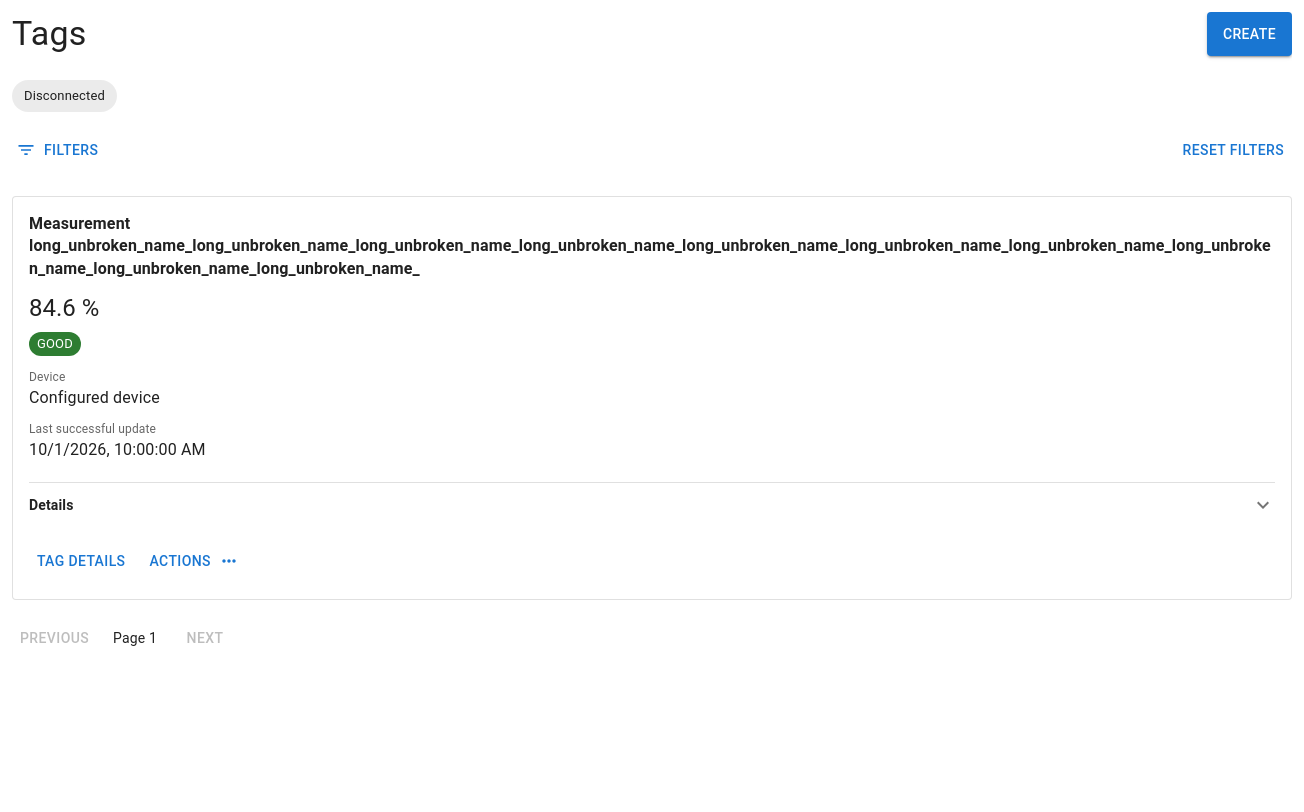
Scenario: responsive data views › collapses mobile tag filters, displays applied values and resets the existing query
Expected: the field labelled "Search name or key" is not shown
Step 1. Click the button "Filters" → coordinates (59, 150), box [12,128,106,172]
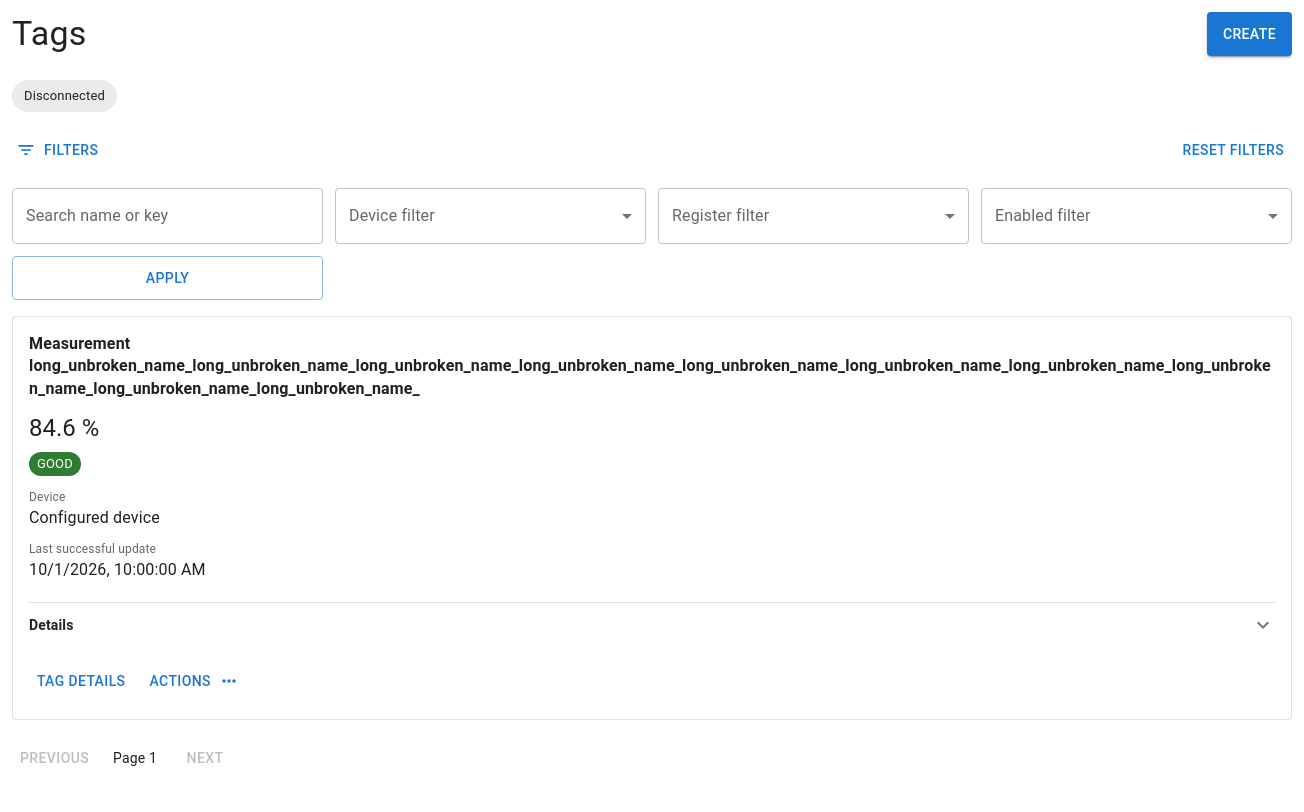
Step 2. Type "humidity" into the field labelled "Search name or key" → coordinates (168, 216), box [12,188,323,244]
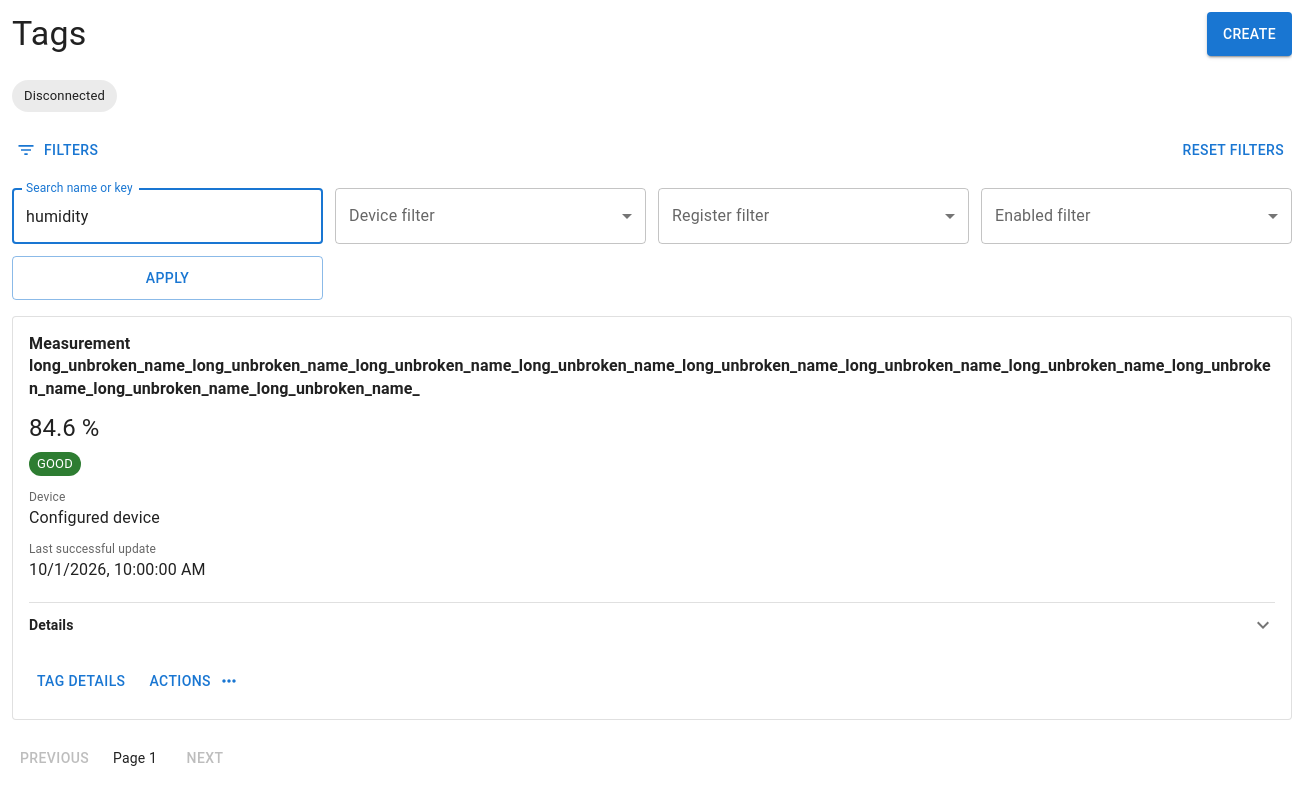
Step 3. Click the button "Apply" → coordinates (168, 278), box [12,256,323,300]
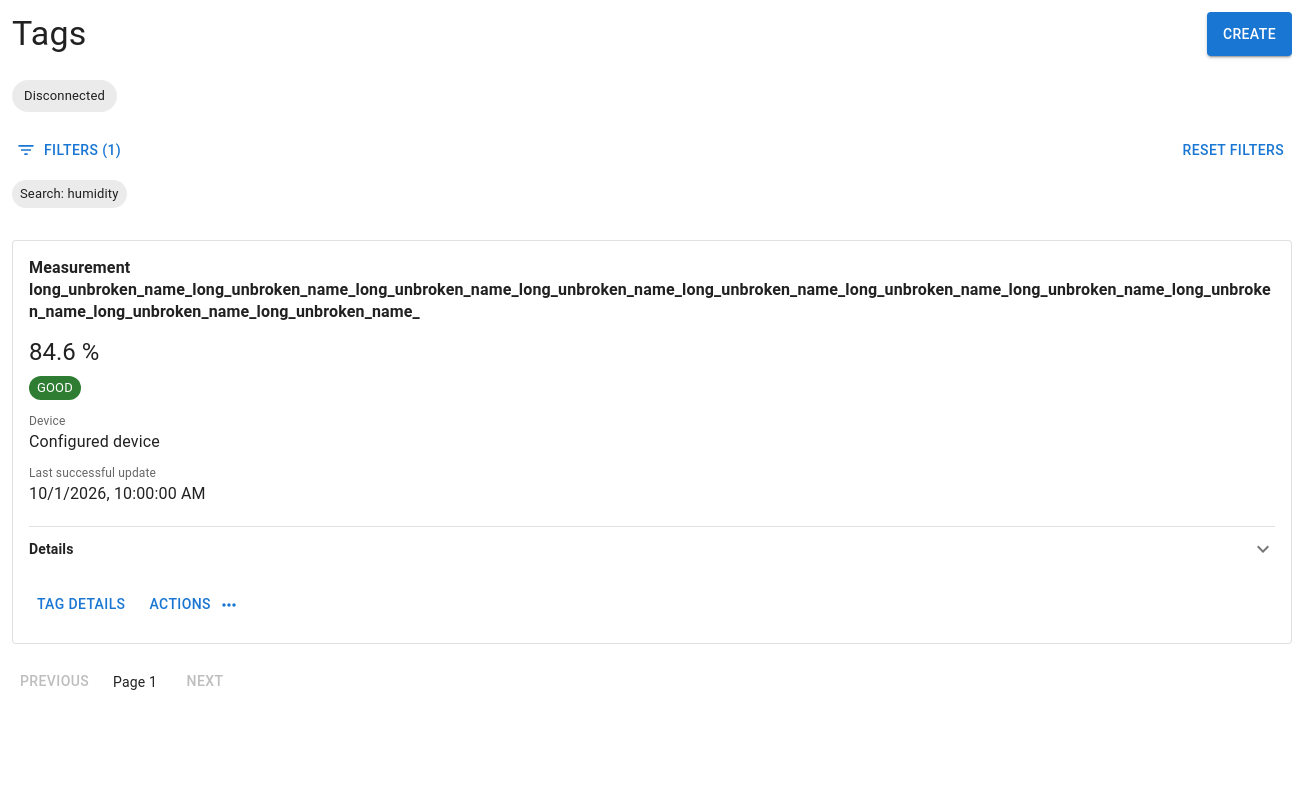
Result: the text "Search: humidity" is shown at [20,186,118,201]
Step 4. Click the button "Reset filters" → coordinates (1233, 150), box [1175,128,1292,172]
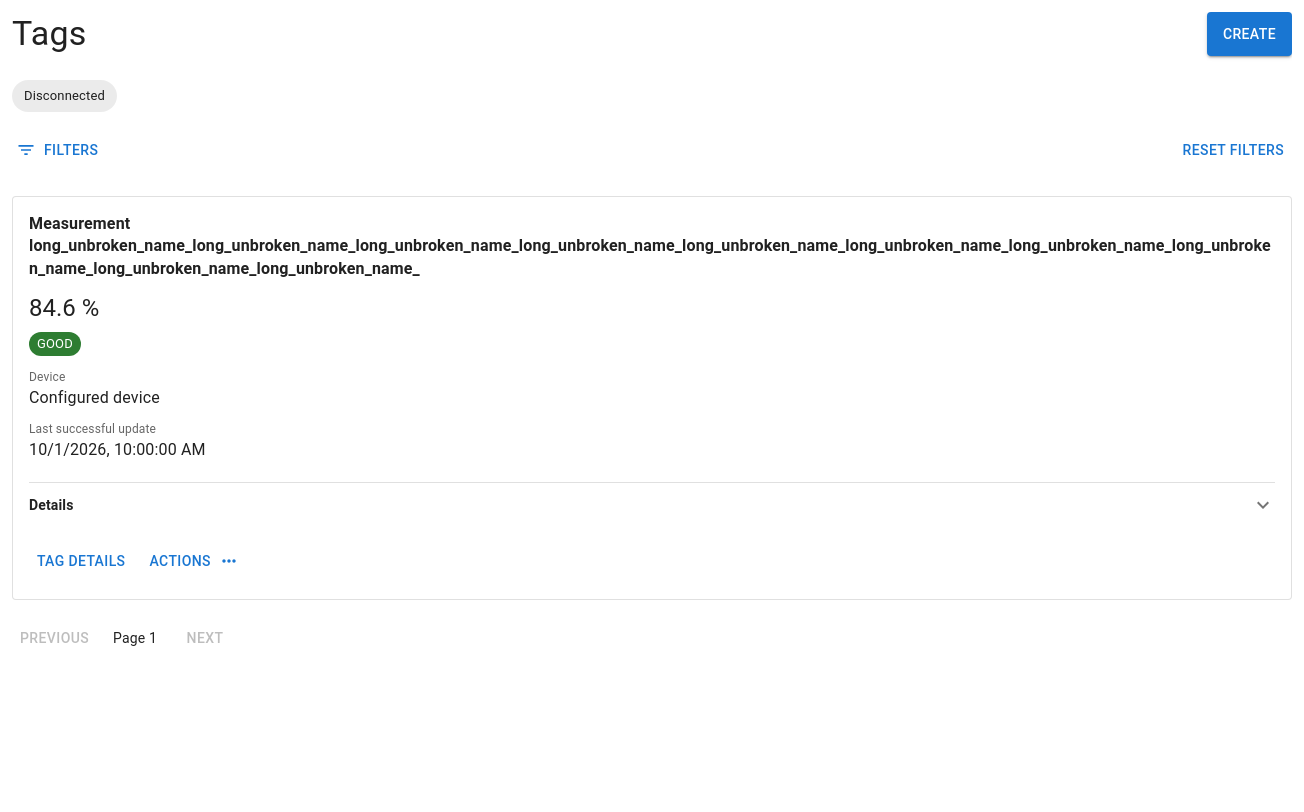
Result: the text "Search: humidity" is gone
